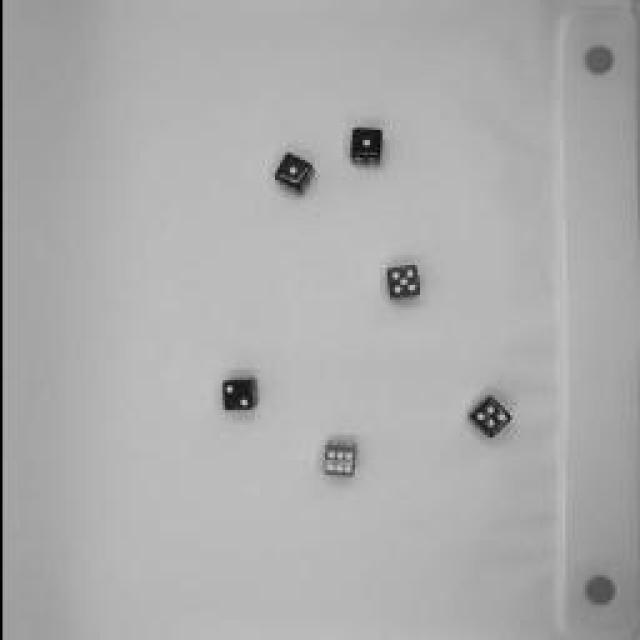dice_1: (266, 145, 316, 200), (340, 120, 388, 170)
dice_2: (215, 368, 263, 418)
dice_4: (460, 385, 515, 445)
dice_5: (373, 258, 425, 308)
dice_6: (312, 435, 358, 480)
